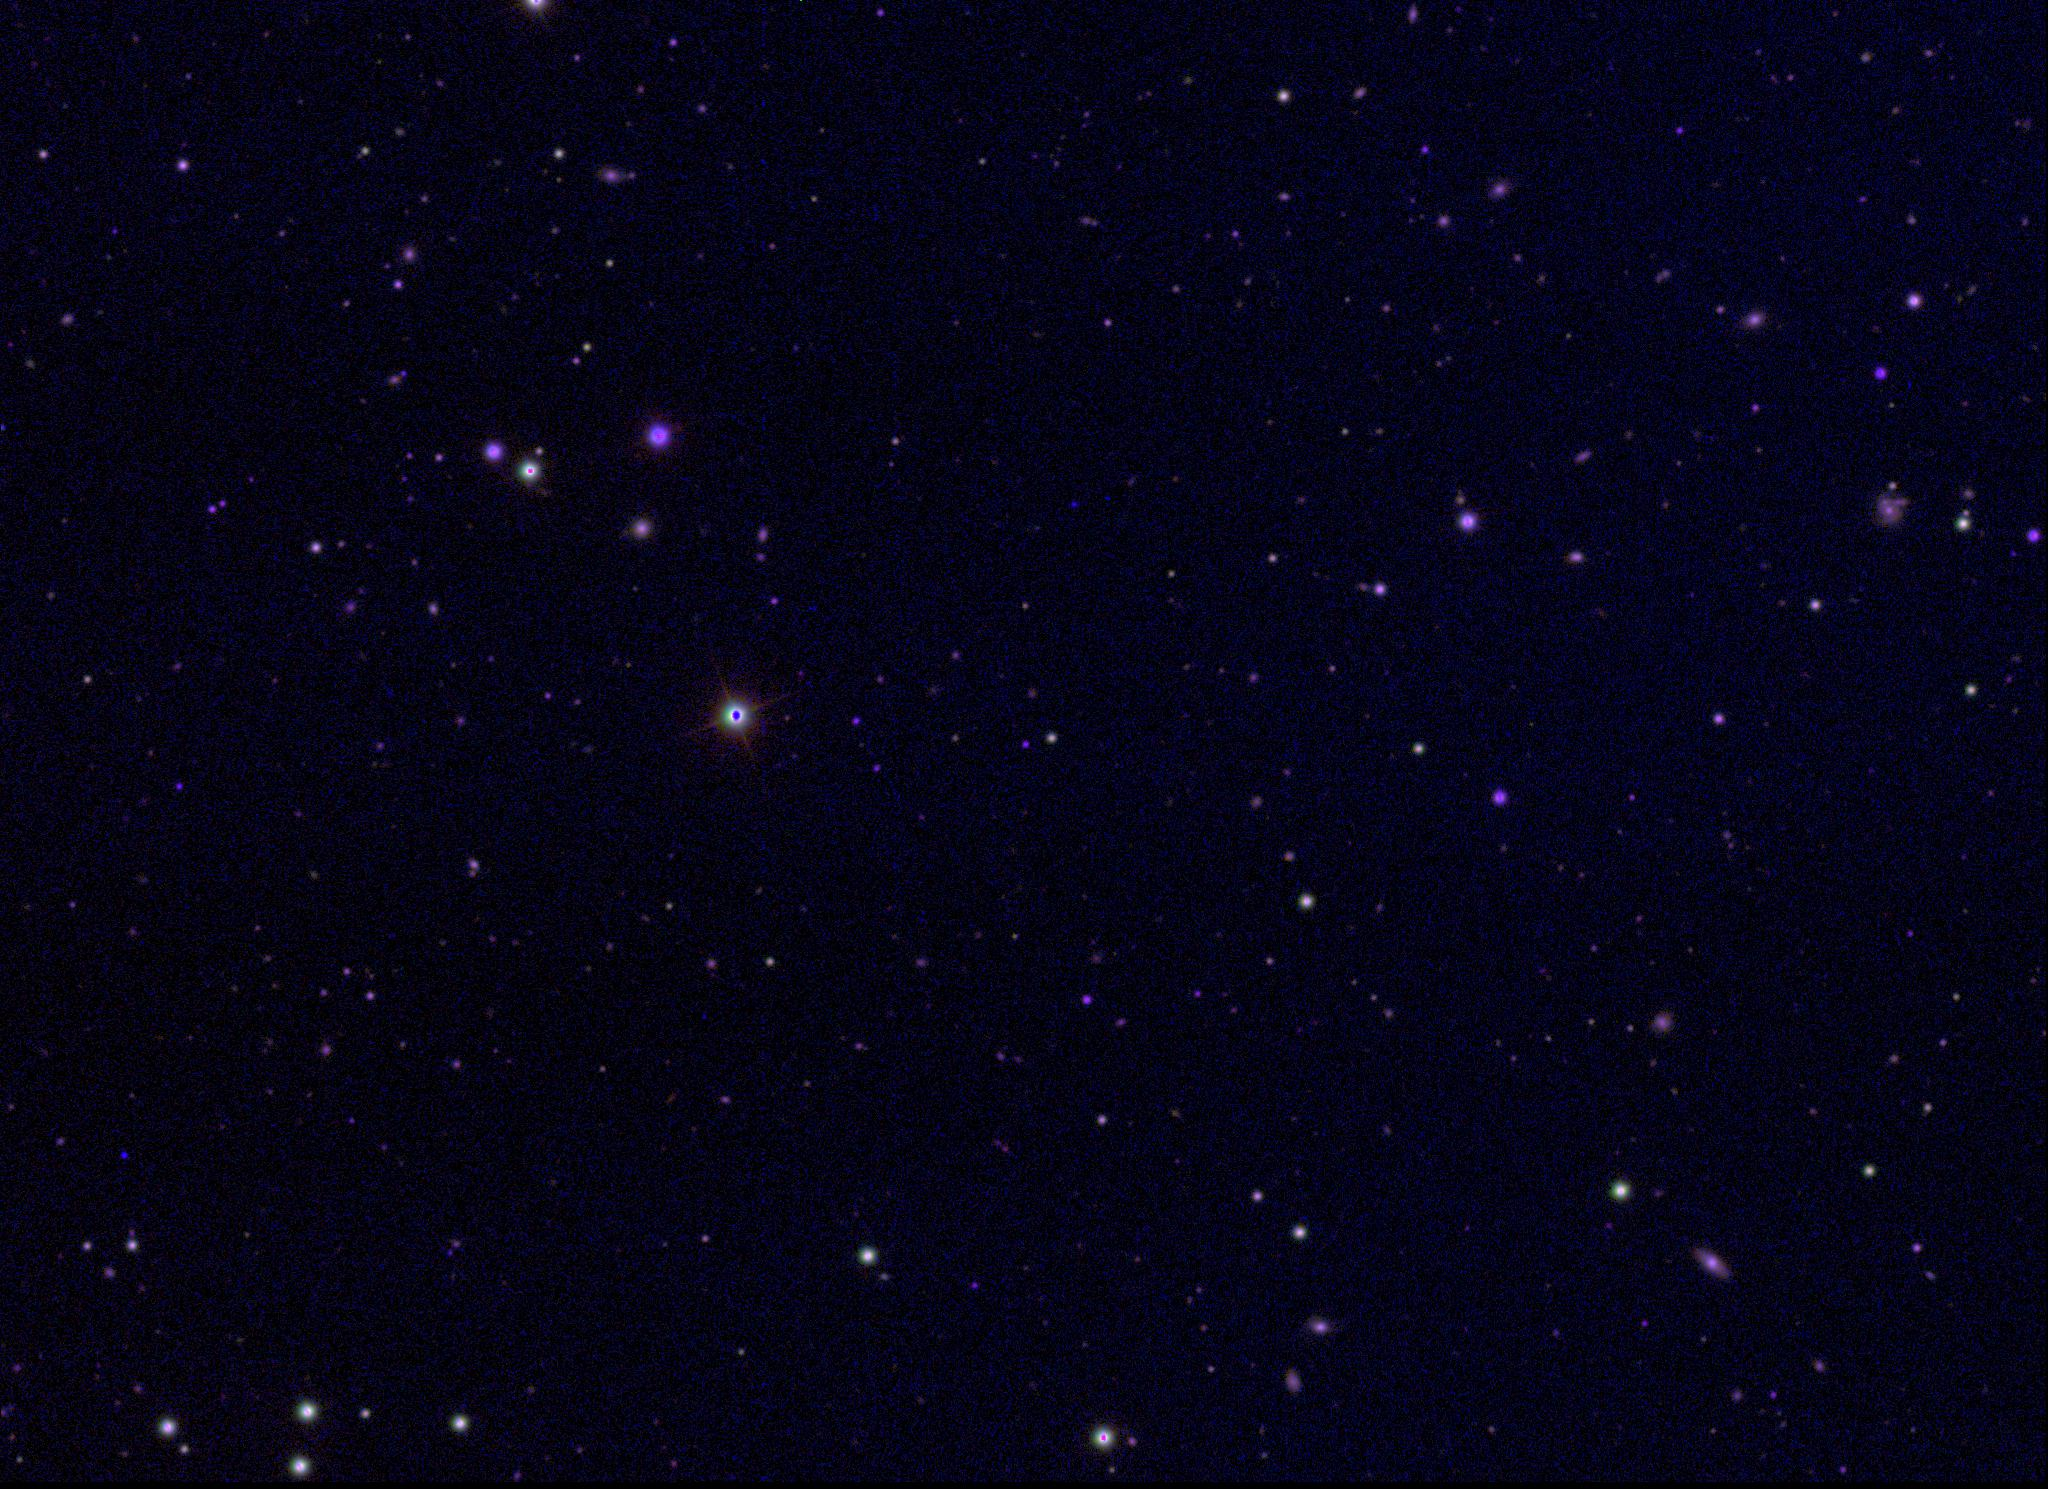L: (118, 1145, 130, 1160)
